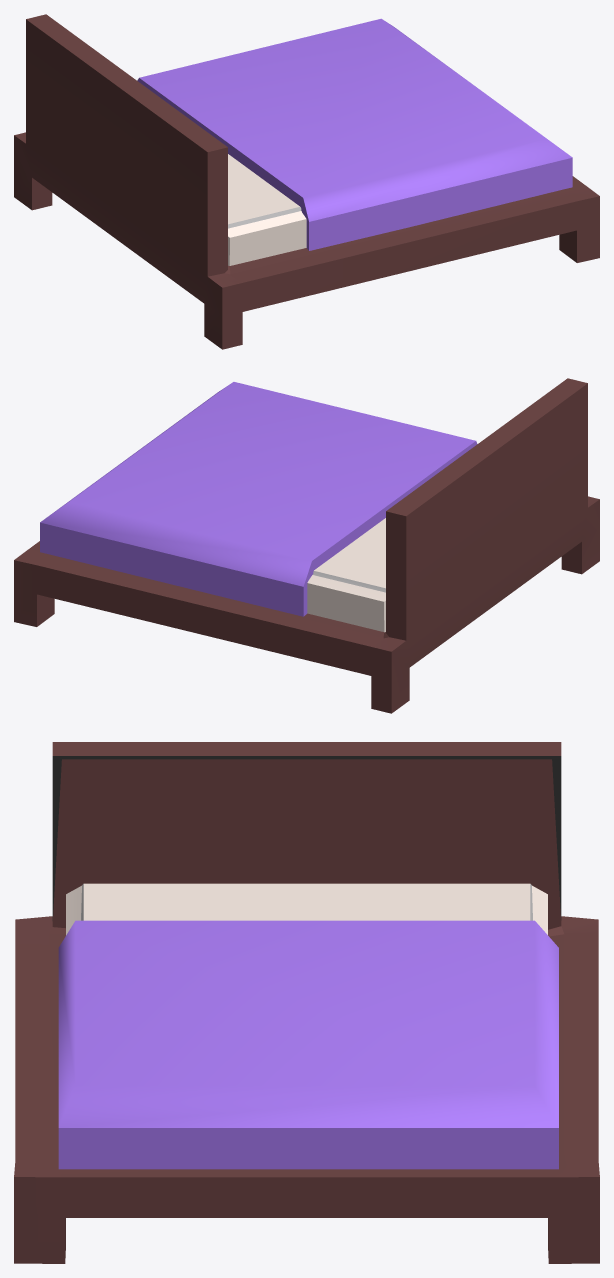
File: Bed_Queen.fbx
3 renders of one model, top to bottom at view 1: azimuth 30°, elevation 25°; view 2: azimuth 150°, elevation 25°; view 3: azimuth 270°, elevation 25°, orthographic. The views are drawn at different scales.
Visible parts, largest first — view 1: Bed1; view 2: Bed1; view 3: Bed1.
Boxes of the visible parts, left/top/right/bottom form: Bed1: left=14, top=14, right=599, bottom=349; Bed1: left=14, top=378, right=599, bottom=713; Bed1: left=14, top=742, right=599, bottom=1263.
Bounding box in the file's own units: 227 × 108 × 217.
